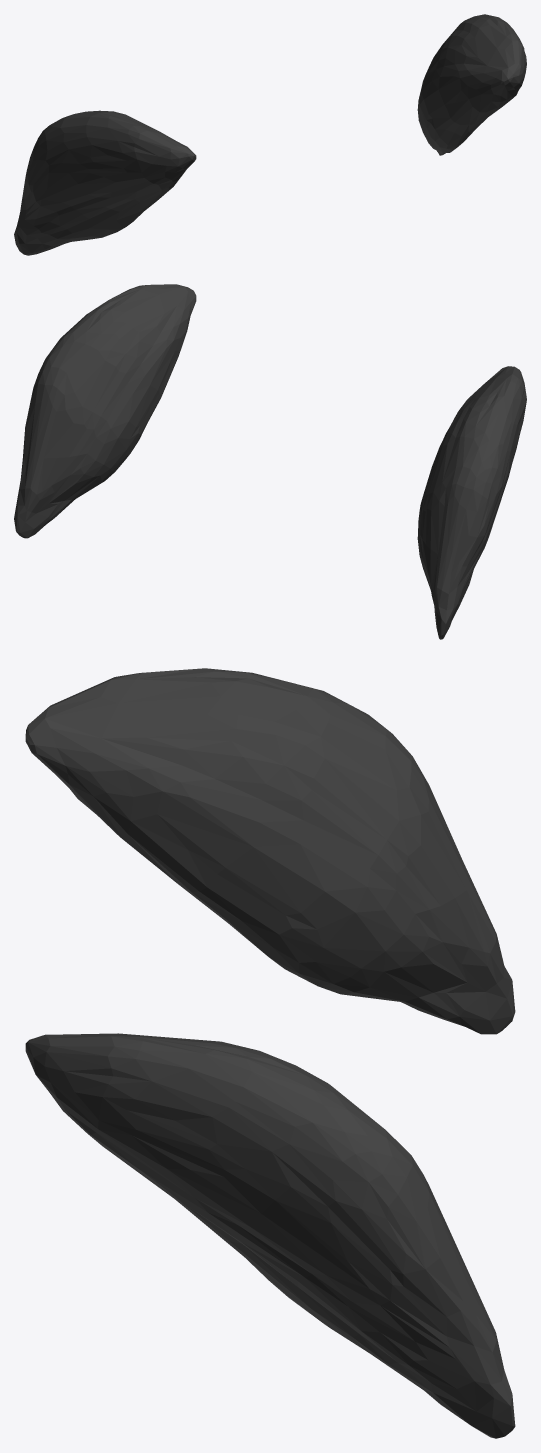
Rendered from m_triceps_brachii_med.glb.
3 renders of one model, top to bottom at view 1: azimuth 30°, elevation 25°; view 2: azimuth 150°, elevation 25°; view 3: azimuth 270°, elevation 25°, orthographic. The views are drawn at different scales.
Parts seen in each view (by area): view 1: m_triceps_brachii_med; view 2: m_triceps_brachii_med; view 3: m_triceps_brachii_med.
Boxes of the visible parts, x1,y1,x2,y2 form: m_triceps_brachii_med: (14, 14, 526, 255); m_triceps_brachii_med: (14, 284, 526, 639); m_triceps_brachii_med: (25, 668, 515, 1438).
Size of the model in its own units: 0.00592 by 0.00234 by 0.00274.
Materials: 1 (1 with a texture image).
